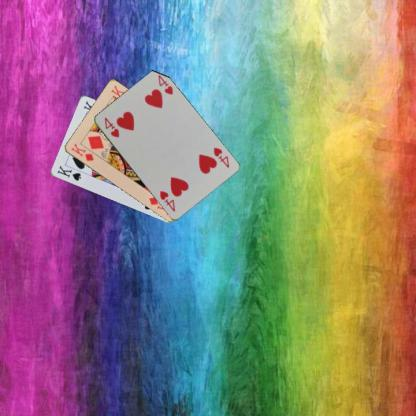4h: (210, 145, 230, 169), (101, 115, 120, 139)
Kd: (68, 140, 96, 162)
Ks: (54, 163, 82, 182)
